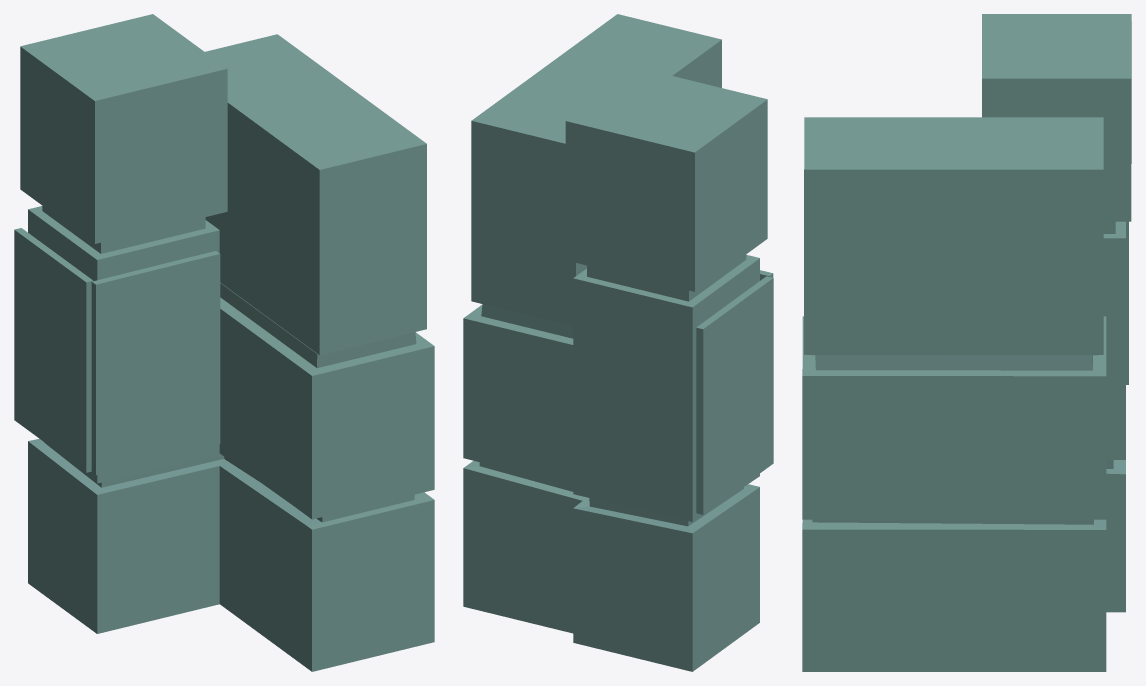
File: building 11.fbx
3 renders of one model, left to right at view 1: azimuth 30°, elevation 25°; view 2: azimuth 150°, elevation 25°; view 3: azimuth 270°, elevation 25°, orthographic. The views are drawn at different scales.
Visible parts, largest first — view 1: building 11; view 2: building 11; view 3: building 11.
Boxes of the visible parts, bbox=[...] form: building 11: bbox=[14, 14, 434, 671]; building 11: bbox=[463, 14, 773, 671]; building 11: bbox=[802, 14, 1131, 671].
Size of the model in its own units: 2337 by 4650 by 2587.
